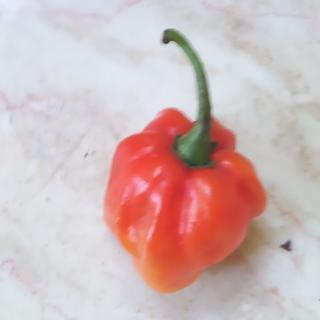Grade-B: (94, 100, 272, 295)
